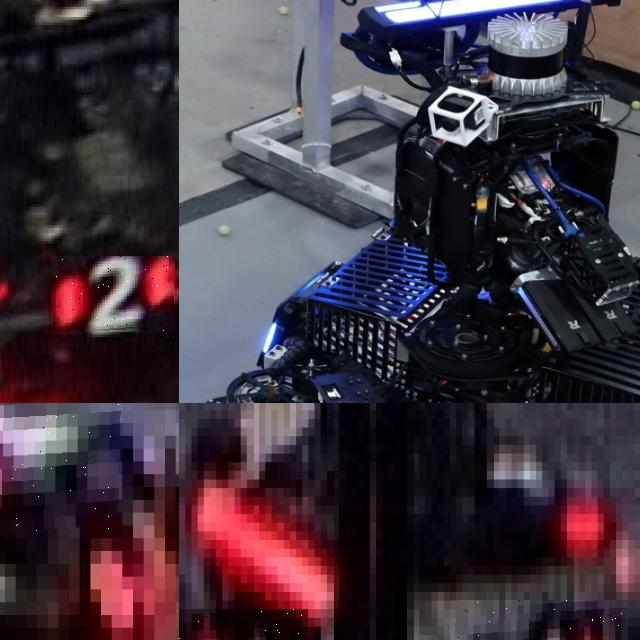R2: (51, 256, 175, 334)
R4: (0, 403, 122, 538), (449, 600, 628, 640)
